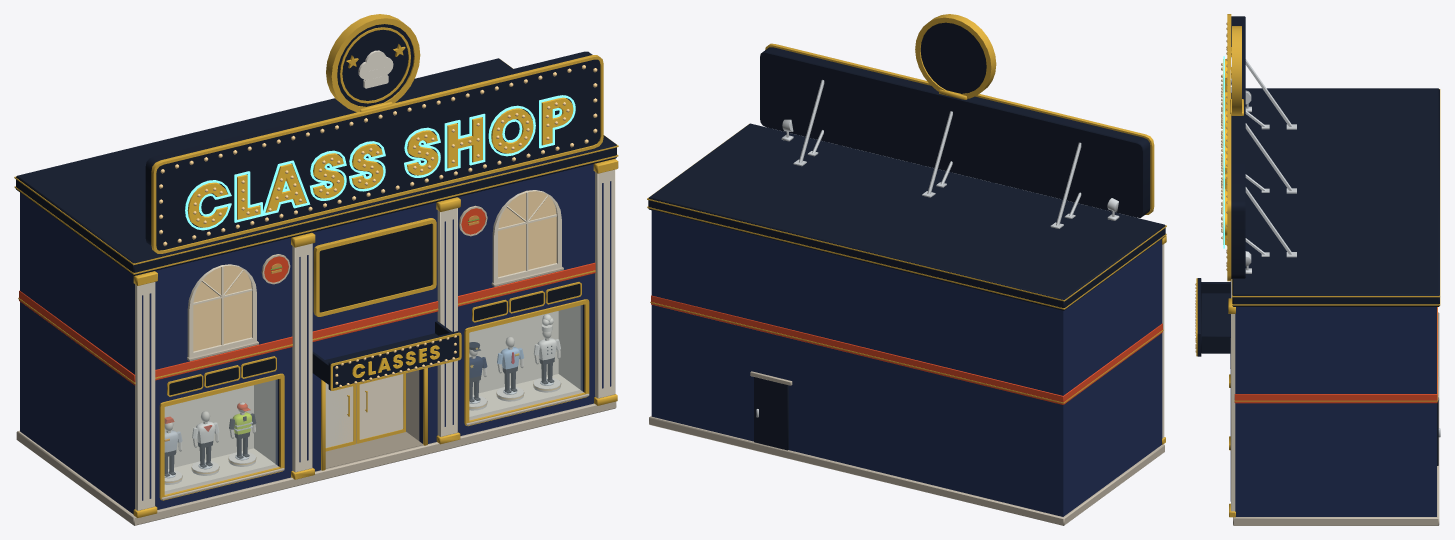
Rendered from Lobby_ClassShop.fbx.
3 renders of one model, left to right at view 1: azimuth 30°, elevation 25°; view 2: azimuth 150°, elevation 25°; view 3: azimuth 270°, elevation 25°, orthographic. The views are drawn at different scales.
Parts seen in each view (by area): view 1: Facade, NavyDeep, Gold, Glass, Cream, Interior, Letters, Stone, Screen, RedBand, LetterNeon, ArchGlow1 (+8 smaller); view 2: Facade, NavyDeep, Gold, Stone, RedBand, Chrome; view 3: NavyDeep, Facade, Gold, Stone, RedBand, Chrome, Cream, Letters, Bulbs, LetterNeon.
Part boxes in pixels (x1,y1,x2,y2): Facade: (20, 164, 611, 514); NavyDeep: (16, 24, 616, 390); Gold: (14, 14, 618, 517); Glass: (165, 305, 582, 492); Cream: (135, 169, 615, 510); Interior: (164, 305, 580, 490); Letters: (187, 97, 573, 377); Stone: (16, 267, 616, 525); Screen: (319, 223, 432, 312); RedBand: (19, 262, 595, 385); LetterNeon: (185, 95, 575, 230); ArchGlow1: (193, 264, 251, 351); Facade: (651, 210, 1162, 516); NavyDeep: (648, 22, 1165, 450); Gold: (647, 14, 1166, 444); Stone: (649, 371, 1164, 525); RedBand: (651, 295, 1162, 404); Chrome: (756, 79, 1119, 417); NavyDeep: (1197, 16, 1439, 465); Facade: (1230, 281, 1436, 516); Gold: (1196, 14, 1440, 517); Stone: (1230, 312, 1439, 525); RedBand: (1234, 307, 1437, 403); Chrome: (1245, 59, 1440, 437); Cream: (1231, 279, 1235, 511); Letters: (1196, 59, 1227, 338); Bulbs: (1195, 22, 1227, 352); LetterNeon: (1223, 56, 1224, 248).
Size of the model in its own units: 4870 by 4305 by 2435.
